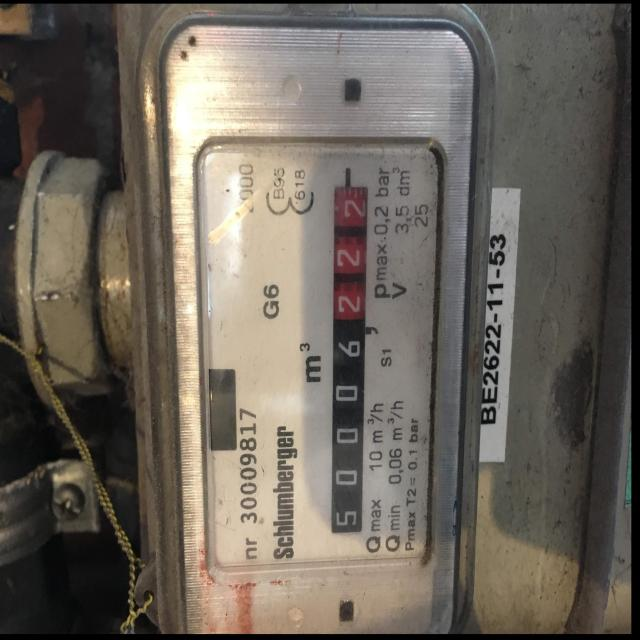gaz_meter: (197, 142, 434, 571)
indication: (332, 185, 370, 536)
